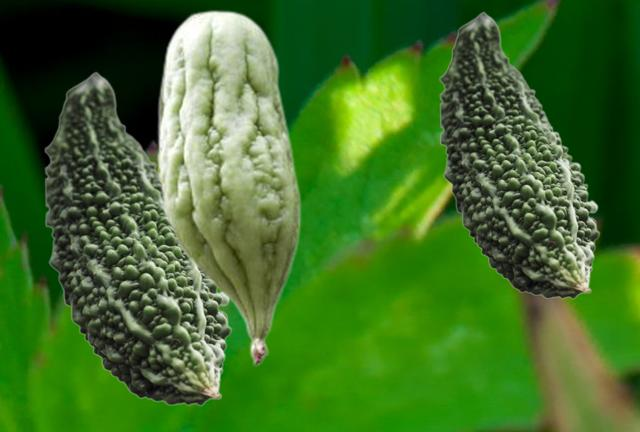ampalaya: (44, 71, 231, 405), (156, 9, 301, 365), (439, 11, 599, 298)
